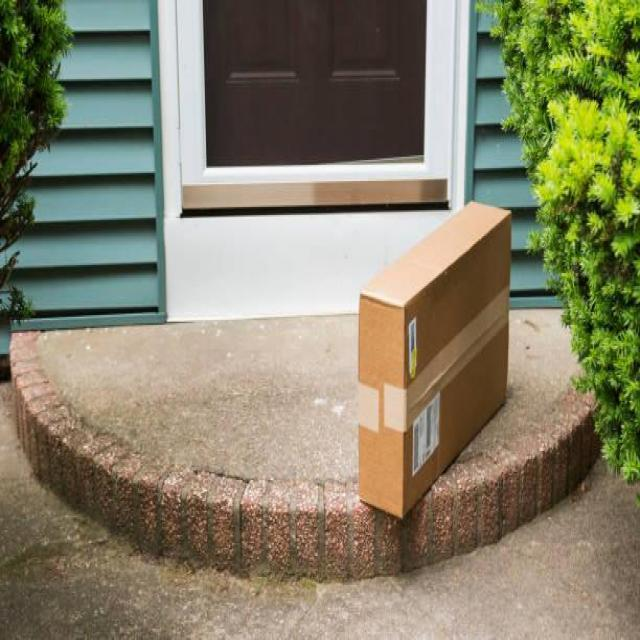box: (352, 200, 515, 523)
